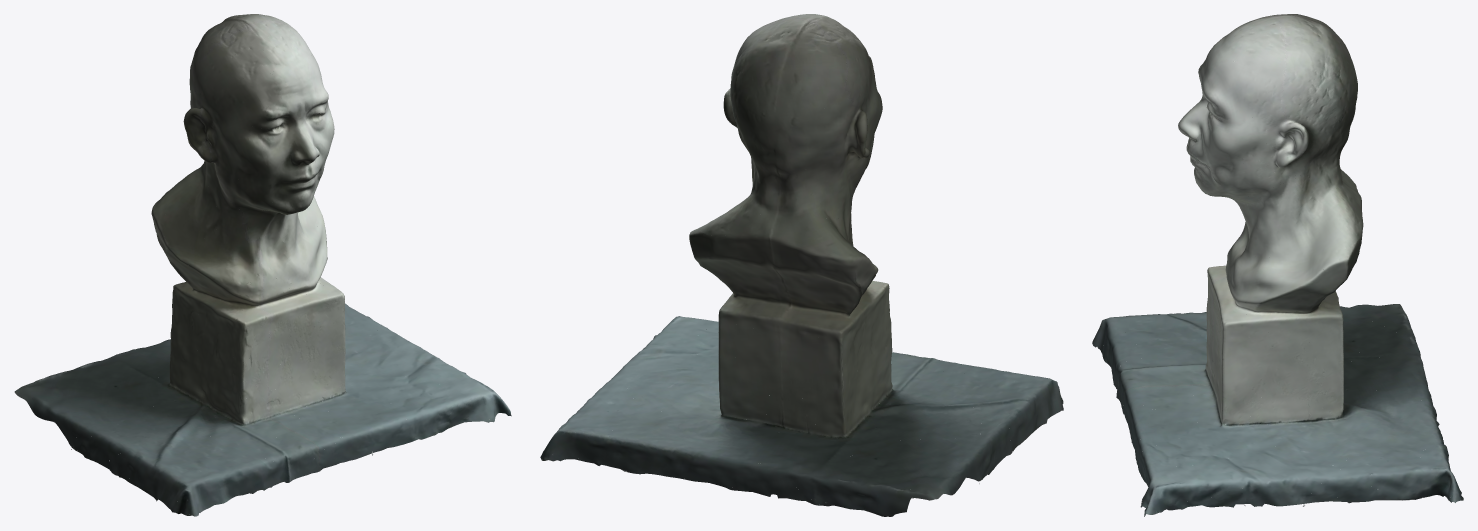
The model's file is 石膏头像_男老年_中线老年胸像01_opt.glb.
3 renders of one model, left to right at view 1: azimuth 30°, elevation 25°; view 2: azimuth 150°, elevation 25°; view 3: azimuth 270°, elevation 25°, orthographic. The views are drawn at different scales.
Parts seen in each view (by area): view 1: surfaceShader1SG, surfaceShader1SG_1; view 2: surfaceShader1SG, surfaceShader1SG_1; view 3: surfaceShader1SG, surfaceShader1SG_1.
Part boxes in pixels (x1,y1,x2,y2): surfaceShader1SG: [14, 14, 511, 516]; surfaceShader1SG_1: [30, 21, 507, 515]; surfaceShader1SG: [540, 14, 1063, 516]; surfaceShader1SG_1: [541, 22, 1061, 516]; surfaceShader1SG: [1092, 14, 1463, 516]; surfaceShader1SG_1: [1093, 14, 1453, 509].
Size of the model in its own units: 0.2999 by 0.3 by 0.2502.
Materials: 1 (1 with a texture image).
